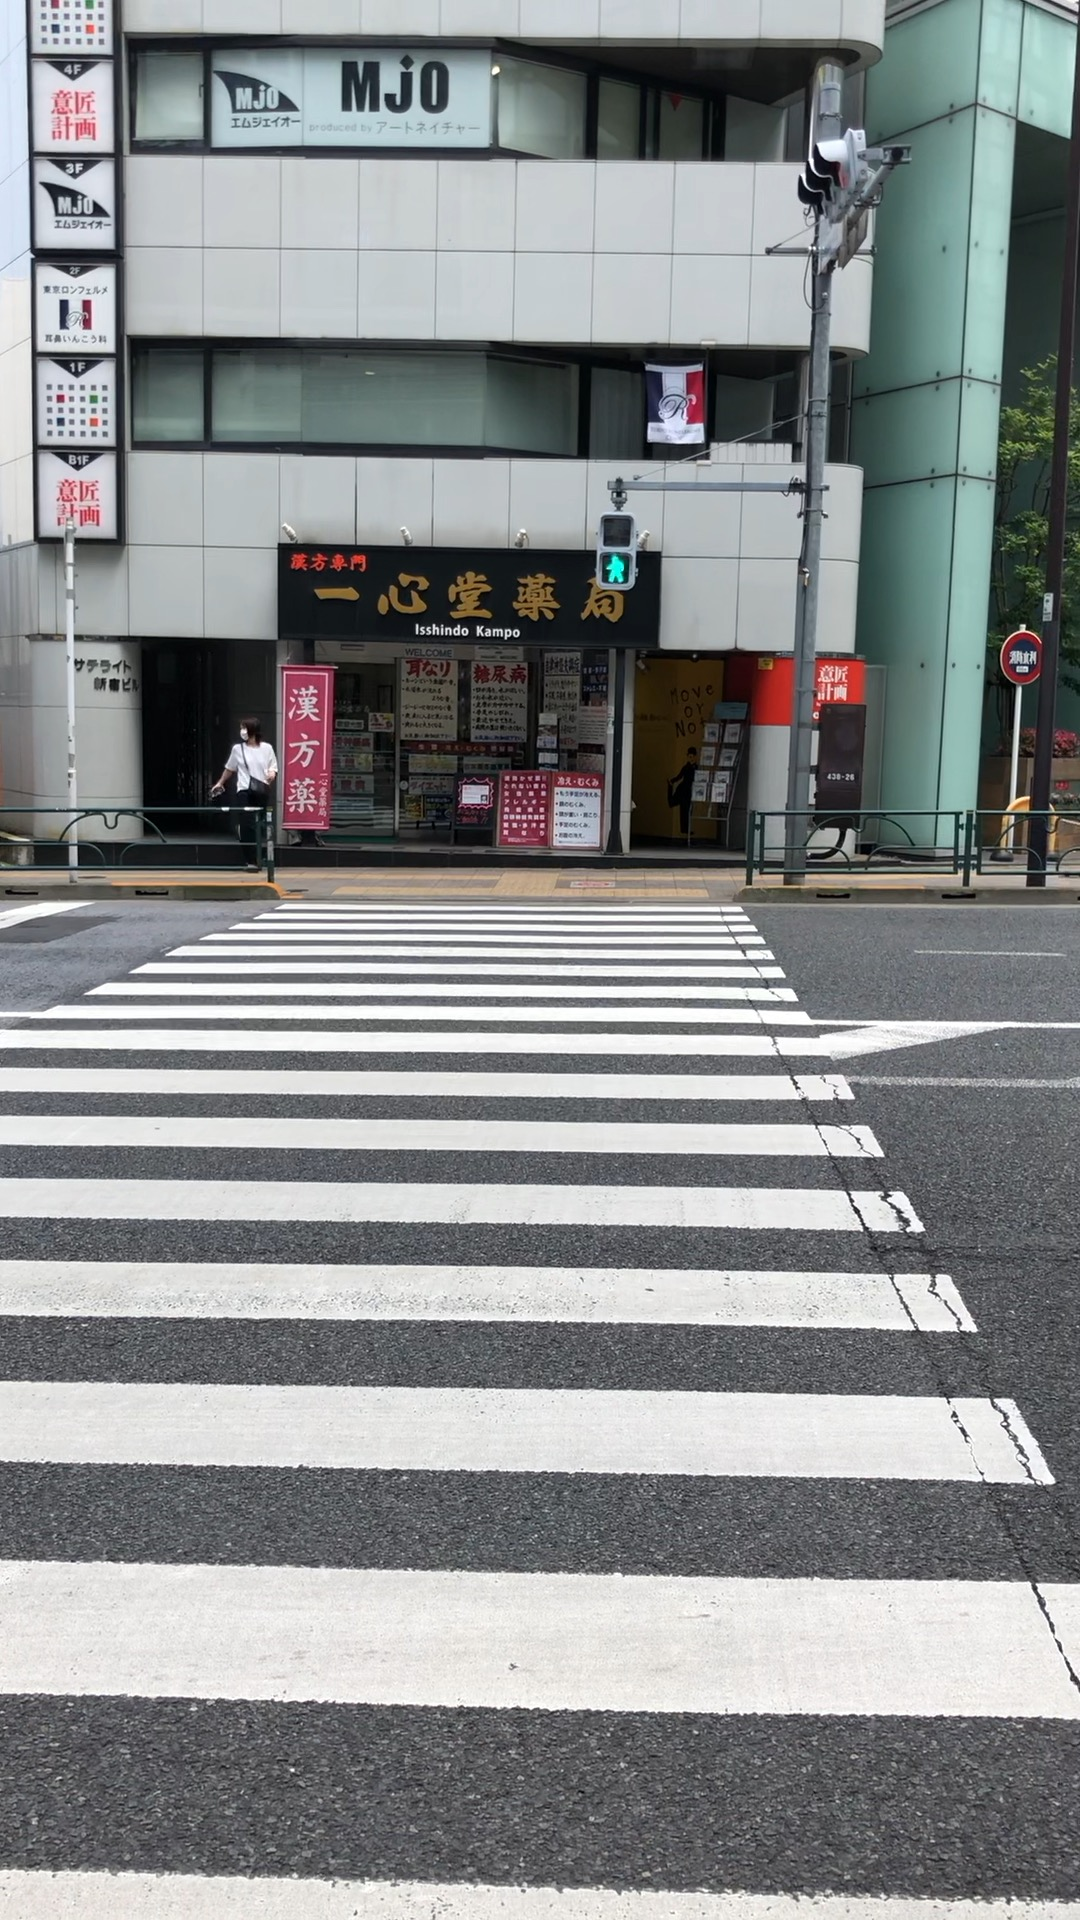green: (593, 510, 636, 591)
